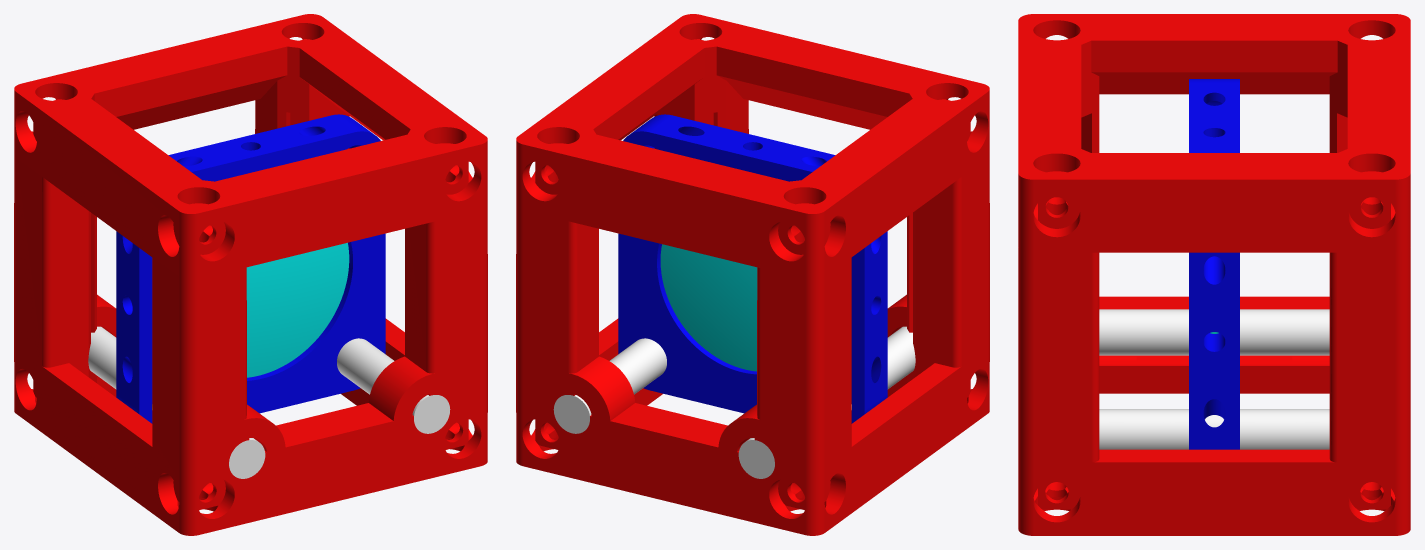
File: Cube 1x1 (Convex Lense).fbx
3 views of the same model, side by side, from view 1: azimuth 30°, elevation 25°; view 2: azimuth 150°, elevation 25°; view 3: azimuth 270°, elevation 25° (orthographic). The views are drawn at different scales.
Parts seen in each view (by area): view 1: Base Cube 1x1 (Convex Lense); view 2: Base Cube 1x1 (Convex Lense); view 3: Base Cube 1x1 (Convex Lense).
Boxes of the visible parts, left/top/right/bottom form: Base Cube 1x1 (Convex Lense): left=14, top=14, right=487, bottom=535; Base Cube 1x1 (Convex Lense): left=516, top=14, right=989, bottom=535; Base Cube 1x1 (Convex Lense): left=1018, top=14, right=1410, bottom=535.
Size of the model in its own units: 4.98 by 4.99 by 4.98.
